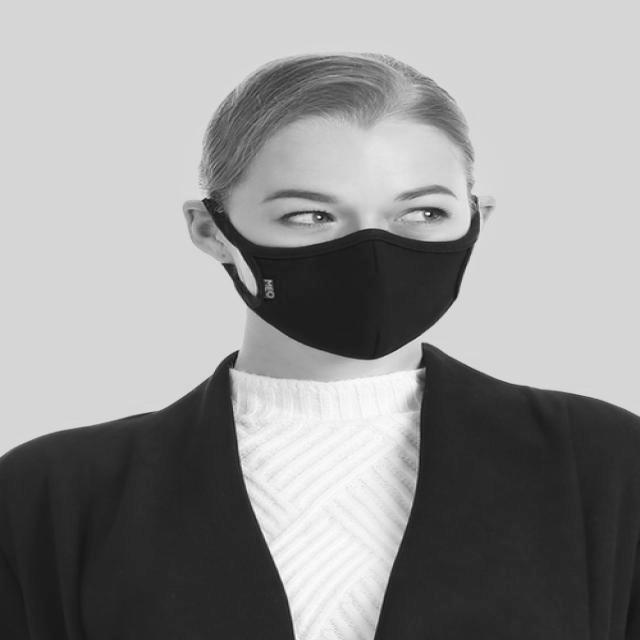fake: (235, 224, 480, 364)
real: (245, 120, 468, 369)
